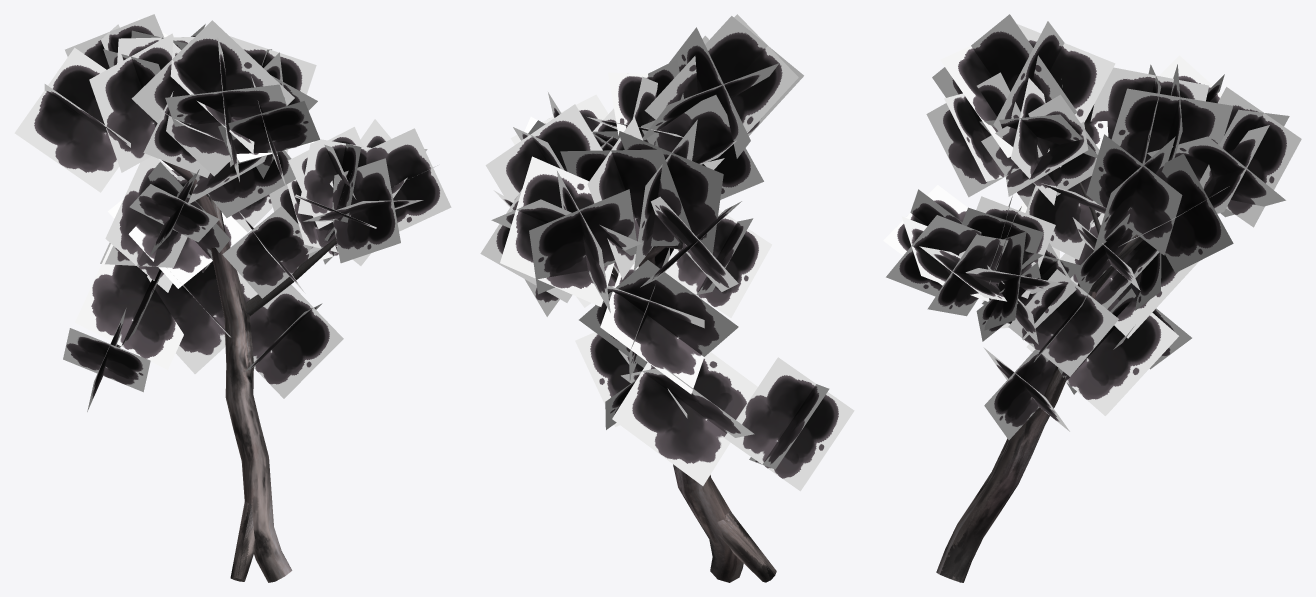
File: Tree_B_freezed.fbx
3 renders of one model, left to right at view 1: azimuth 30°, elevation 25°; view 2: azimuth 150°, elevation 25°; view 3: azimuth 270°, elevation 25°, orthographic. The views are drawn at different scales.
Visible parts, largest first — view 1: leafBC (×2), leafBC1 (×2), leafBA (×2), leafBB1 (×2), tree_trunk, leafBA1 (×2), leafBB (×2); view 2: leafBC1 (×2), leafBC (×2), leafBB (×2), leafBB1 (×2), tree_trunk, leafBA, leafBA1; view 3: leafBC (×2), leafBC1 (×2), leafBB1 (×2), leafBA1 (×2), leafBB (×2), leafBA (×2), tree_trunk.
Part boxes in pixels (x1=…): leafBC (×2): x1=15, y1=14, x2=343, y2=398; leafBC1 (×2): x1=63, y1=18, x2=316, y2=411; leafBA (×2): x1=222, y1=119, x2=451, y2=298; leafBB1 (×2): x1=132, y1=20, x2=319, y2=189; tree_trunk: x1=162, y1=160, x2=336, y2=582; leafBA1 (×2): x1=295, y1=139, x2=423, y2=265; leafBB (×2): x1=143, y1=38, x2=317, y2=181; leafBC1 (×2): x1=485, y1=104, x2=854, y2=491; leafBC (×2): x1=480, y1=119, x2=741, y2=429; leafBB (×2): x1=608, y1=14, x2=803, y2=199; leafBB1 (×2): x1=587, y1=27, x2=779, y2=158; tree_trunk: x1=610, y1=234, x2=776, y2=582; leafBA: x1=510, y1=92, x2=673, y2=268; leafBA1: x1=524, y1=108, x2=618, y2=316; leafBC (×2): x1=983, y1=55, x2=1301, y2=439; leafBC1 (×2): x1=1018, y1=64, x2=1285, y2=369; leafBB1 (×2): x1=926, y1=21, x2=1115, y2=207; leafBA1 (×2): x1=883, y1=185, x2=1118, y2=376; leafBB (×2): x1=932, y1=14, x2=1108, y2=205; leafBA (×2): x1=919, y1=196, x2=1079, y2=340; tree_trunk: x1=936, y1=182, x2=1143, y2=582.
Size of the model in its own units: 189 by 293 by 201.
